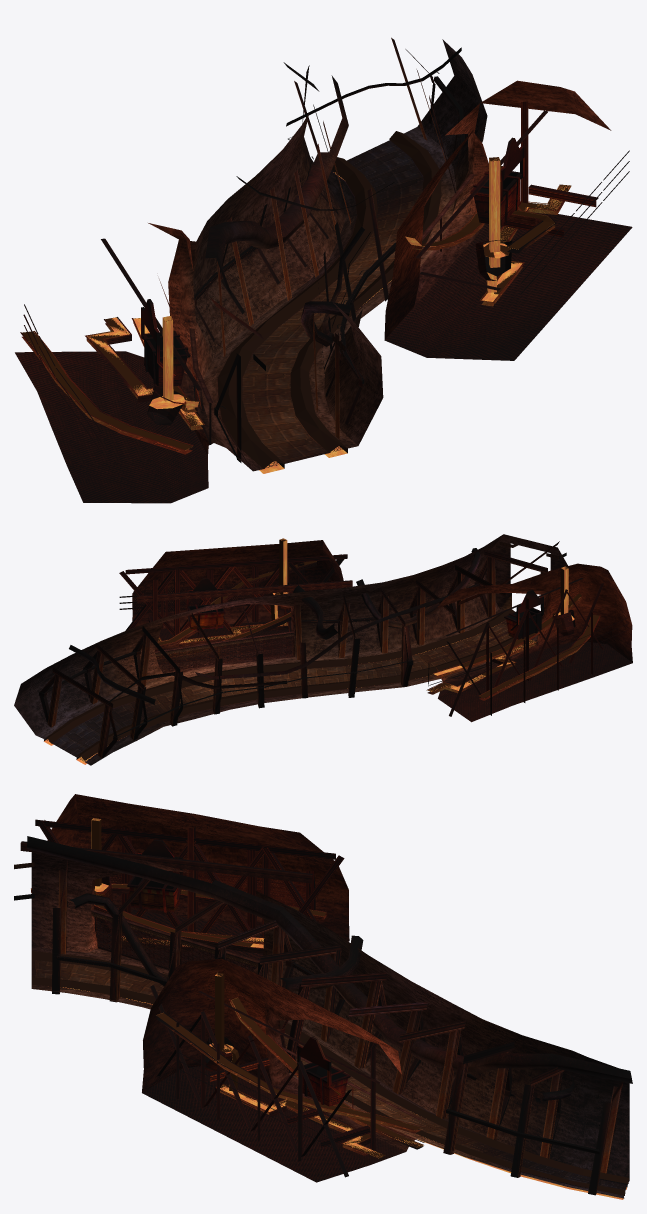
File: 19Cave.gltf
The picture shows the model from 3 angles, top to bottom: view 1: azimuth 30°, elevation 25°; view 2: azimuth 150°, elevation 25°; view 3: azimuth 270°, elevation 25°; orthographic projection. The views are drawn at different scales.
Visible parts, largest first — view 1: stg030_o23_Mesh_0, stg030_o23_Mesh_3, stg030_o23_Mesh_5, stg030_o23_Mesh_19, stg030_g23_Mesh_1, stg030_o23_Mesh_4, stg030_steelflow_23_Mesh_0, stg030_o23_Mesh_9, stg030_o23_Mesh_7, stg030_contena2_23_Mesh_3; view 2: stg030_o23_Mesh_0, stg030_o23_Mesh_5, stg030_g23_Mesh_1, stg030_o23_Mesh_19, stg030_o23_Mesh_3, stg030_o23_Mesh_4, stg030_p23_Mesh_0, stg030_o23_Mesh_9, stg030_steelflow_23_Mesh_0, stg030_o23_Mesh_7, stg030_p23_Mesh_1, stg030_o23_Mesh_6 (+1 smaller); view 3: stg030_o23_Mesh_0, stg030_o23_Mesh_5, stg030_o23_Mesh_4, stg030_o23_Mesh_3, stg030_g23_Mesh_1, stg030_o23_Mesh_19, stg030_o23_Mesh_9, stg030_p23_Mesh_0, stg030_steelflow_23_Mesh_0, stg030_o23_Mesh_7, stg030_contena2_23_Mesh_3, stg030_o23_Mesh_6.
Part boxes in pixels (x1,y1,x2,y2): stg030_o23_Mesh_0: (148, 39, 611, 482); stg030_o23_Mesh_3: (15, 212, 632, 503); stg030_o23_Mesh_5: (20, 37, 629, 462); stg030_o23_Mesh_19: (22, 140, 564, 468); stg030_g23_Mesh_1: (22, 131, 571, 468); stg030_o23_Mesh_4: (205, 47, 461, 346); stg030_steelflow_23_Mesh_0: (39, 158, 570, 473); stg030_o23_Mesh_9: (142, 171, 521, 406); stg030_o23_Mesh_7: (189, 174, 474, 402); stg030_contena2_23_Mesh_3: (141, 138, 524, 343); stg030_o23_Mesh_0: (14, 534, 632, 765); stg030_o23_Mesh_5: (38, 550, 626, 757); stg030_g23_Mesh_1: (44, 538, 599, 760); stg030_o23_Mesh_19: (44, 582, 599, 759); stg030_o23_Mesh_3: (157, 621, 632, 722); stg030_o23_Mesh_4: (69, 541, 559, 704); stg030_p23_Mesh_0: (133, 578, 312, 672); stg030_o23_Mesh_9: (187, 582, 573, 639); stg030_steelflow_23_Mesh_0: (44, 538, 580, 764); stg030_o23_Mesh_7: (154, 542, 566, 662); stg030_p23_Mesh_1: (45, 620, 505, 762); stg030_o23_Mesh_6: (155, 632, 294, 656); stg030_o23_Mesh_0: (31, 794, 629, 1198); stg030_o23_Mesh_5: (20, 819, 623, 1195); stg030_o23_Mesh_4: (27, 836, 632, 1102); stg030_o23_Mesh_3: (94, 907, 405, 1182); stg030_g23_Mesh_1: (31, 819, 628, 1195); stg030_o23_Mesh_19: (31, 876, 627, 1190); stg030_o23_Mesh_9: (95, 876, 350, 1106); stg030_p23_Mesh_0: (96, 868, 305, 971); stg030_steelflow_23_Mesh_0: (31, 818, 627, 1199); stg030_o23_Mesh_7: (14, 862, 421, 1120); stg030_contena2_23_Mesh_3: (133, 840, 329, 1070); stg030_o23_Mesh_6: (91, 911, 258, 966).
Bounding box in the file's own units: 67.51 × 20.43 × 62.63.
Materials: 15 (14 with a texture image).
